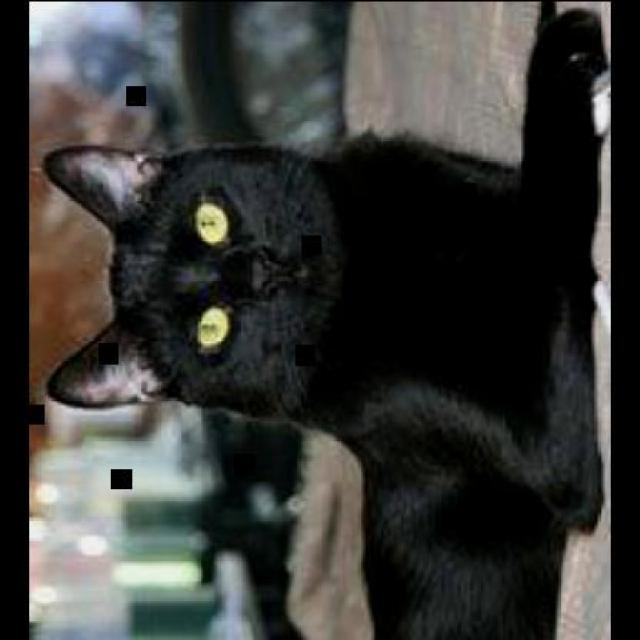unauthorized: (42, 6, 608, 639)
